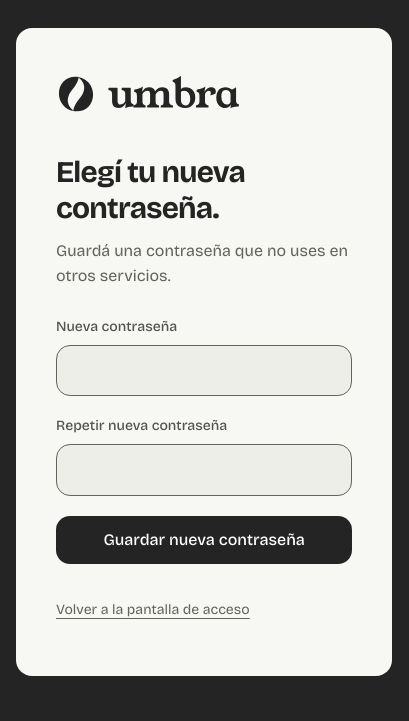
it: rejects mismatching passwords without updating the account
Expected: the button "Guardar nueva contraseña" is enabled, 56,516 -> 352,564
Type "SyntheticPass123!" into the password field labelled "Nueva contraseña".
click(204, 371); type("SyntheticPass123!")  # box 56,345 -> 352,396
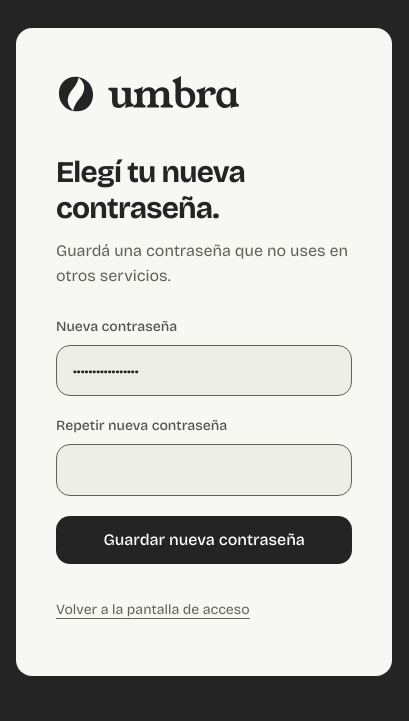
Type "DifferentPass123!" into the password field labelled "Repetir nueva contraseña".
click(204, 470); type("DifferentPass123!")  # box 56,444 -> 352,496
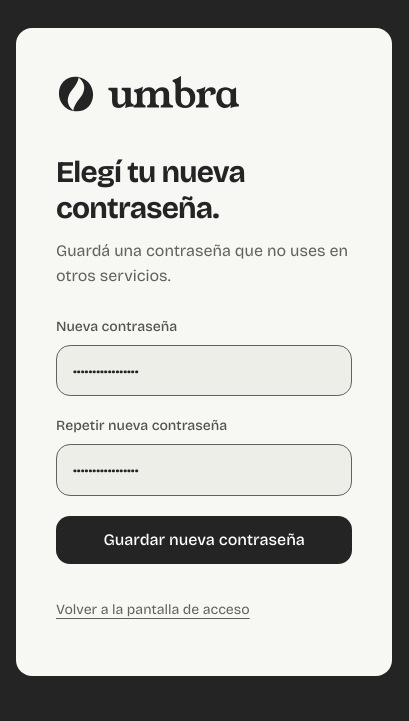
Click the button "Guardar nueva contraseña".
click(204, 540)  # box 56,516 -> 352,564
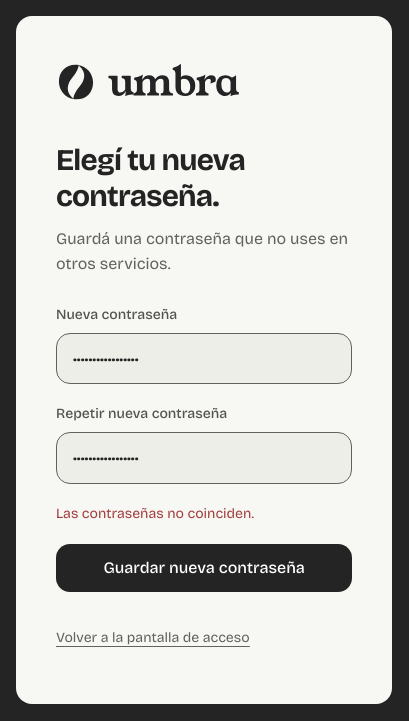
Now the message shows "no coinciden", box 56,505 -> 254,522
